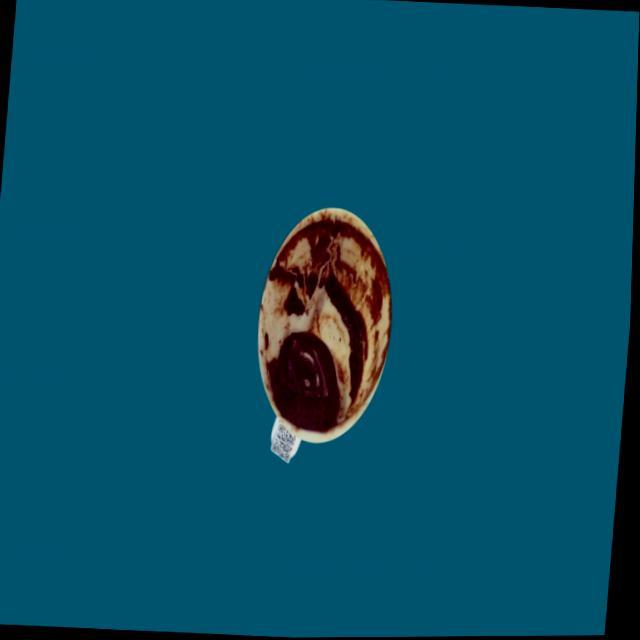cup: (248, 199, 405, 473)
